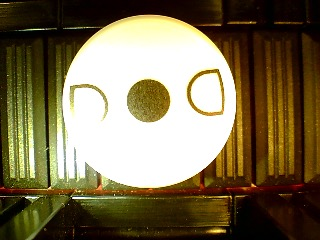BOHOMIPO2: (61, 14, 237, 190)
